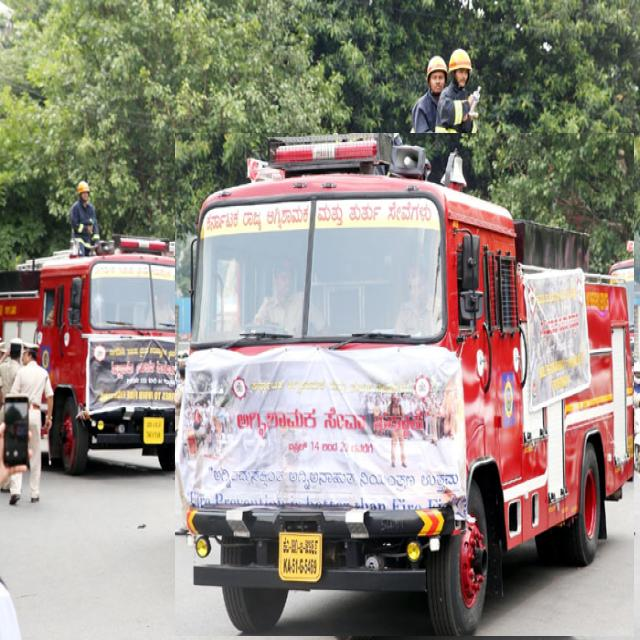emergency: (175, 133, 634, 636), (0, 236, 198, 474)
